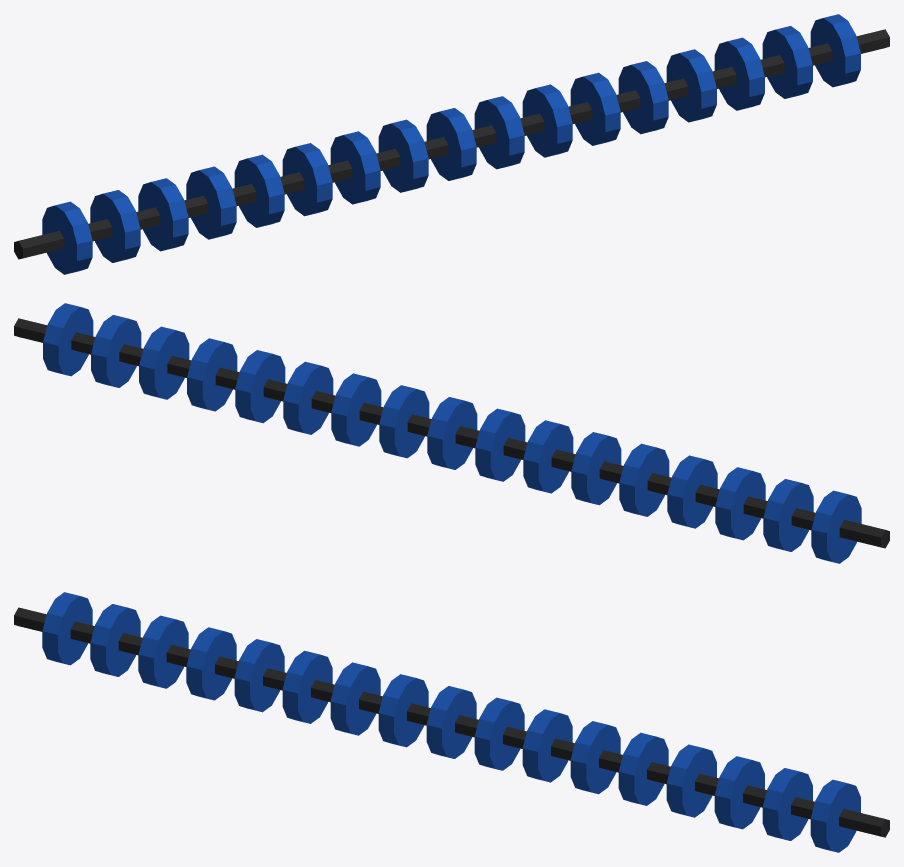
The model's file is ground-intake-top-rollers.obj.
The picture shows the model from 3 angles, top to bottom: view 1: azimuth 30°, elevation 25°; view 2: azimuth 150°, elevation 25°; view 3: azimuth 330°, elevation 25°; orthographic projection.
Visible parts, largest first — view 1: mesh120, mesh100, mesh40, mesh60, mesh140, mesh180, mesh200, mesh220, mesh80, mesh12, mesh160, mesh340 (+5 smaller); view 2: mesh120, mesh100, mesh40, mesh60, mesh140, mesh180, mesh200, mesh220, mesh80, mesh12, mesh160, mesh340 (+5 smaller); view 3: mesh187, mesh287, mesh19, mesh67, mesh207, mesh27, mesh127, mesh167, mesh267, mesh147, mesh307, mesh47 (+5 smaller).
Part boxes in pixels (x1,y1,x2,y2): mesh120: (570, 76, 605, 145); mesh100: (618, 65, 653, 134); mesh40: (762, 29, 797, 98); mesh60: (714, 41, 749, 110); mesh140: (522, 88, 557, 157); mesh180: (426, 111, 461, 180); mesh200: (378, 123, 413, 192); mesh220: (330, 135, 365, 204); mesh80: (666, 53, 701, 122); mesh12: (810, 18, 845, 87); mesh160: (474, 100, 509, 169); mesh340: (42, 205, 76, 274); mesh120: (298, 365, 333, 434); mesh100: (250, 354, 285, 423); mesh40: (106, 318, 141, 387); mesh60: (154, 330, 189, 399); mesh140: (346, 377, 381, 446); mesh180: (442, 400, 477, 469); mesh200: (490, 412, 525, 481); mesh220: (538, 424, 573, 493); mesh80: (202, 342, 237, 411); mesh12: (58, 307, 93, 376); mesh160: (394, 389, 429, 458); mesh340: (827, 494, 861, 563); mesh187: (394, 678, 428, 747); mesh287: (154, 619, 188, 688); mesh19: (826, 783, 860, 852); mesh67: (682, 748, 716, 817); mesh207: (346, 666, 380, 735); mesh27: (778, 771, 812, 840); mesh127: (538, 713, 572, 782); mesh167: (442, 689, 476, 758); mesh267: (202, 631, 236, 700); mesh147: (490, 701, 524, 770); mesh307: (106, 607, 140, 676); mesh47: (730, 760, 764, 829).
Bounding box in the file's own units: 0.7094 × 0.0491 × 0.0491.
